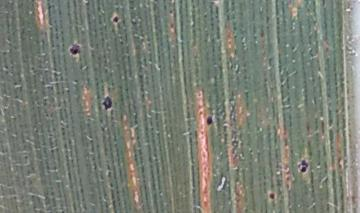tarspot: (68, 42, 83, 58), (297, 158, 310, 174), (102, 95, 114, 112), (205, 115, 214, 126), (112, 14, 120, 24), (269, 191, 276, 201)
